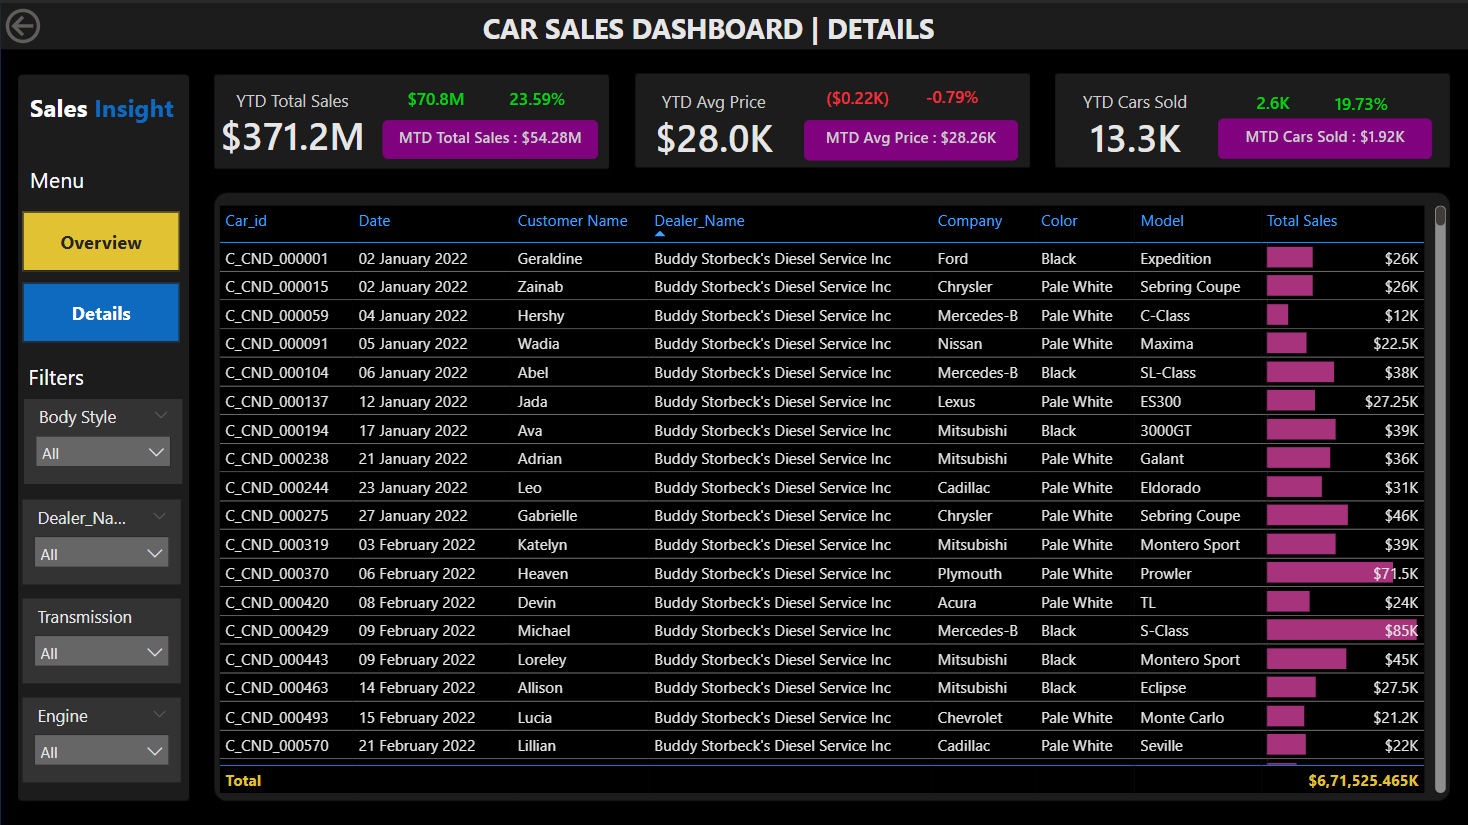

The dashboard page shown, as its layout file describes it:
{"tool":"powerbi","page":{"name":"Details","canvas":[1280,720],"ordinal":1},"visuals":[{"type":"card","title":"YTD Total Sales","fields":{"Values":["car_data.YTD Total Sales"]},"box":[186.5,74,135.7,61.7],"z":0},{"type":"card","fields":{"Values":["car_data.Sales Difference"]},"box":[333.1,71.2,92.4,25.7],"z":1000},{"type":"card","fields":{"Values":["car_data.YOY Sales Growth"]},"box":[416.4,71.2,104.5,25.7],"z":2000},{"type":"card","fields":{"Values":["car_data.MTD KPI"]},"box":[333,101.7,188.1,33.9],"z":3000},{"type":"card","title":"YTD Avg Price","fields":{"Values":["car_data.YTD Avg Price"]},"box":[559.6,75.5,124.9,61.7],"z":4000},{"type":"card","fields":{"Values":["car_data.Avg Price Diff"]},"box":[701.4,70.9,92.5,26.2],"z":5000},{"type":"card","fields":{"Values":["car_data.YOY Avg Price Growth"]},"box":[782.8,69.7,92.4,25.7],"z":6000},{"type":"card","fields":{"Values":["car_data.MTD Avg Price KPI"]},"box":[701.4,101.7,186.5,35.5],"z":7000},{"type":"card","title":"YTD Cars Sold","fields":{"Values":["car_data.YTD Cars Sold"]},"box":[926.5,75.5,124.9,61.7],"z":8000},{"type":"card","fields":{"Values":["car_data.Cars Sold Diff"]},"box":[1063.7,74,92.5,26.2],"z":9000},{"type":"card","fields":{"Values":["car_data.YOY Car Sold Growth"]},"box":[1140.8,75.5,92.5,26.2],"z":10000},{"type":"card","fields":{"Values":["car_data.MTD Cars Sold KPI"]},"box":[1062.1,100.2,186.5,35.5],"z":11000},{"type":"actionButton","box":[0,0,100,40],"z":12000},{"type":"textbox","box":[415.8,0,444.6,47],"z":13000},{"type":"slicer","fields":{"Values":["car_data.Body Style"]},"box":[21.2,345.2,137.8,74.2],"z":14000},{"type":"slicer","fields":{"Values":["car_data.Dealer_Name"]},"box":[19.7,433.1,137.8,74.2],"z":15000},{"type":"slicer","fields":{"Values":["car_data.Transmission"]},"box":[19.7,519.4,137.8,74.2],"z":16000},{"type":"slicer","fields":{"Values":["car_data.Engine"]},"box":[19.7,605.7,137.8,74.2],"z":17000},{"type":"textbox","box":[19.7,307.4,80.3,37.9],"z":18000},{"type":"tableEx","fields":{"Values":["car_data.Car_id","car_data.Date","car_data.Customer Name","car_data.Dealer_Name","car_data.Company","car_data.Color","car_data.Model","car_data.Price ($)"]},"box":[186.2,171.1,1079.6,522.4],"z":19000},{"type":"textbox","box":[21.2,136.3,78.7,34.8],"z":21000},{"type":"pageNavigator","box":[19.7,181.7,137.8,115.1],"z":22000},{"type":"textbox","box":[21.2,71.2,149.9,48.5],"z":23000}]}

Visuals, with their boxes on the page's 1280x720 design canvas (x1, y1, x2, y2). These are canvas units, not pixel positions in the 1468x825 screenshot, which may show the page scaled, cropped or inside an application window:
"YTD Total Sales" card: [186,74,322,136]
card - car_data.Sales Difference: [333,71,426,97]
card - car_data.YOY Sales Growth: [416,71,521,97]
card - car_data.MTD KPI: [333,102,521,136]
"YTD Avg Price" card: [560,76,684,137]
card - car_data.Avg Price Diff: [701,71,794,97]
card - car_data.YOY Avg Price Growth: [783,70,875,95]
card - car_data.MTD Avg Price KPI: [701,102,888,137]
"YTD Cars Sold" card: [926,76,1051,137]
card - car_data.Cars Sold Diff: [1064,74,1156,100]
card - car_data.YOY Car Sold Growth: [1141,76,1233,102]
card - car_data.MTD Cars Sold KPI: [1062,100,1249,136]
actionButton: [0,0,100,40]
textbox: [416,0,860,47]
slicer - car_data.Body Style: [21,345,159,419]
slicer - car_data.Dealer_Name: [20,433,158,507]
slicer - car_data.Transmission: [20,519,158,594]
slicer - car_data.Engine: [20,606,158,680]
textbox: [20,307,100,345]
tableEx - car_data.Car_id x car_data.Date: [186,171,1266,694]
textbox: [21,136,100,171]
pageNavigator: [20,182,158,297]
textbox: [21,71,171,120]
